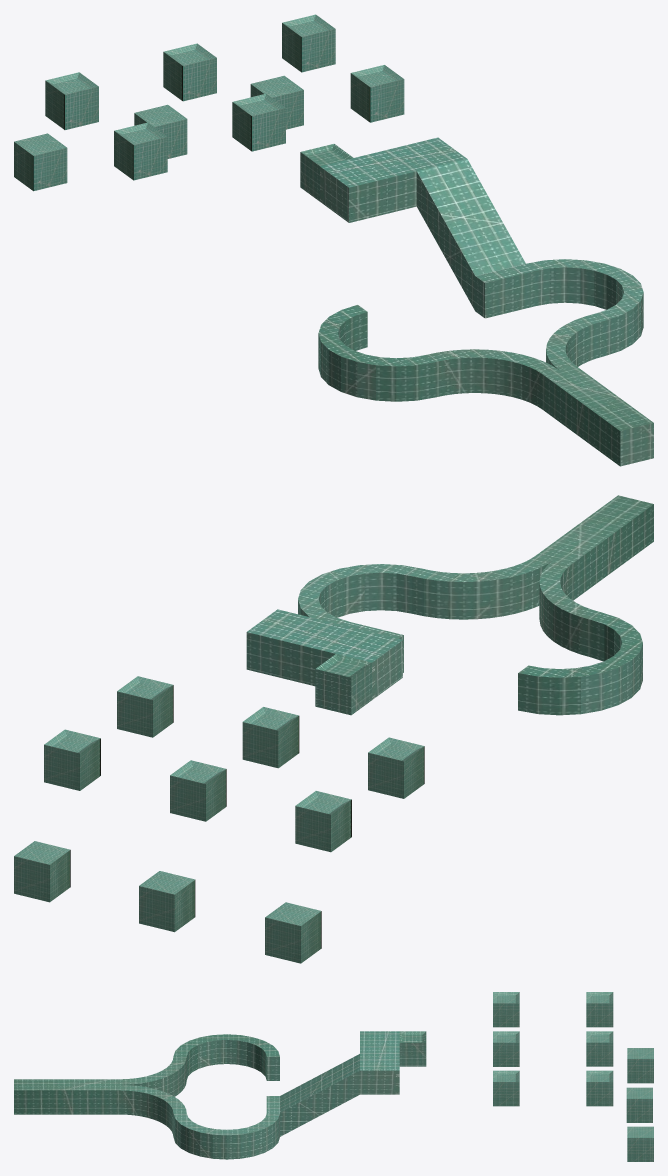
Rendered from level_3.gltf.
The picture shows the model from 3 angles, top to bottom: view 1: azimuth 30°, elevation 25°; view 2: azimuth 150°, elevation 25°; view 3: azimuth 270°, elevation 25°; orthographic projection. The views are drawn at different scales.
Visible parts, largest first — view 1: Cube, Cube.003, Cube.007, Cube.004, Cube.006, Cube.002, Cube.005, Cube.008, Cube.010, Cube.009, Cube.001; view 2: Cube, Cube.002, Cube.003, Cube.004, Cube.005, Cube.007, Cube.006, Cube.001, Cube.009, Cube.008, Cube.010; view 3: Cube, Cube.006, Cube.001, Cube.007, Cube.005, Cube.003, Cube.002, Cube.004, Cube.008, Cube.009, Cube.010.
Boxes of the visible parts, x1=… form: Cube: x1=318, y1=137, x2=653, y2=466; Cube.003: x1=350, y1=65, x2=404, y2=122; Cube.007: x1=163, y1=43, x2=216, y2=101; Cube.004: x1=114, y1=122, x2=167, y2=180; Cube.006: x1=282, y1=14, x2=335, y2=72; Cube.002: x1=232, y1=93, x2=285, y2=151; Cube.005: x1=45, y1=72, x2=98, y2=129; Cube.008: x1=14, y1=133, x2=67, y2=191; Cube.010: x1=134, y1=104, x2=187, y2=158; Cube.009: x1=250, y1=75, x2=303, y2=129; Cube.001: x1=300, y1=144, x2=353, y2=201; Cube: x1=246, y1=495, x2=653, y2=715; Cube.002: x1=242, y1=707, x2=299, y2=768; Cube.003: x1=117, y1=676, x2=173, y2=737; Cube.004: x1=368, y1=737, x2=424, y2=798; Cube.005: x1=295, y1=791, x2=351, y2=852; Cube.007: x1=170, y1=760, x2=226, y2=821; Cube.006: x1=44, y1=729, x2=100, y2=790; Cube.001: x1=315, y1=654, x2=371, y2=715; Cube.009: x1=14, y1=841, x2=70, y2=902; Cube.008: x1=265, y1=902, x2=321, y2=963; Cube.010: x1=139, y1=871, x2=195, y2=932; Cube: x1=14, y1=1031, x2=399, y2=1159; Cube.006: x1=586, y1=1070, x2=613, y2=1106; Cube.001: x1=399, y1=1031, x2=426, y2=1066; Cube.007: x1=586, y1=1031, x2=613, y2=1066; Cube.005: x1=586, y1=992, x2=613, y2=1027; Cube.003: x1=493, y1=1070, x2=519, y2=1106; Cube.002: x1=493, y1=1031, x2=519, y2=1066; Cube.004: x1=493, y1=992, x2=519, y2=1027; Cube.008: x1=627, y1=1048, x2=653, y2=1083; Cube.009: x1=627, y1=1126, x2=653, y2=1161; Cube.010: x1=626, y1=1087, x2=652, y2=1122.
Bounding box in the file's own units: 36.18 × 13.35 × 96.22.
2 materials, 2 textured.
